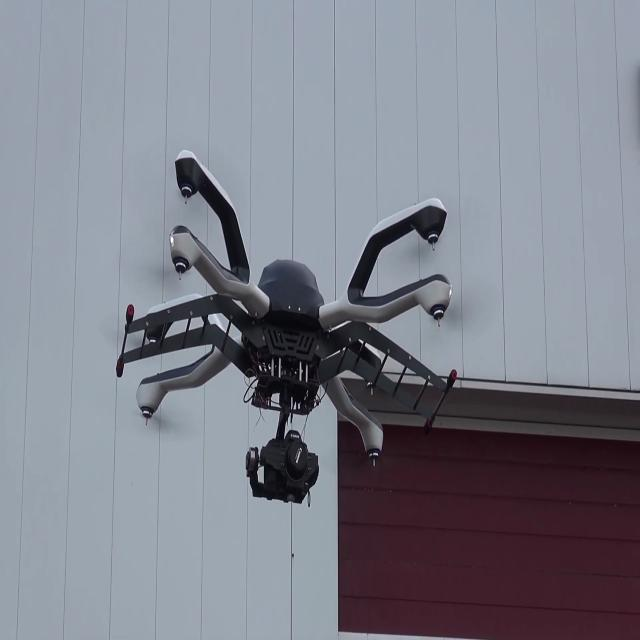drone: (103, 128, 458, 535)
